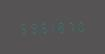eight: (57, 19, 66, 33)
five: (17, 21, 26, 34)
nine: (27, 20, 36, 34)
one: (47, 20, 56, 33)
seven: (67, 19, 76, 33)
six: (37, 20, 46, 34)
zero: (77, 19, 86, 32)
